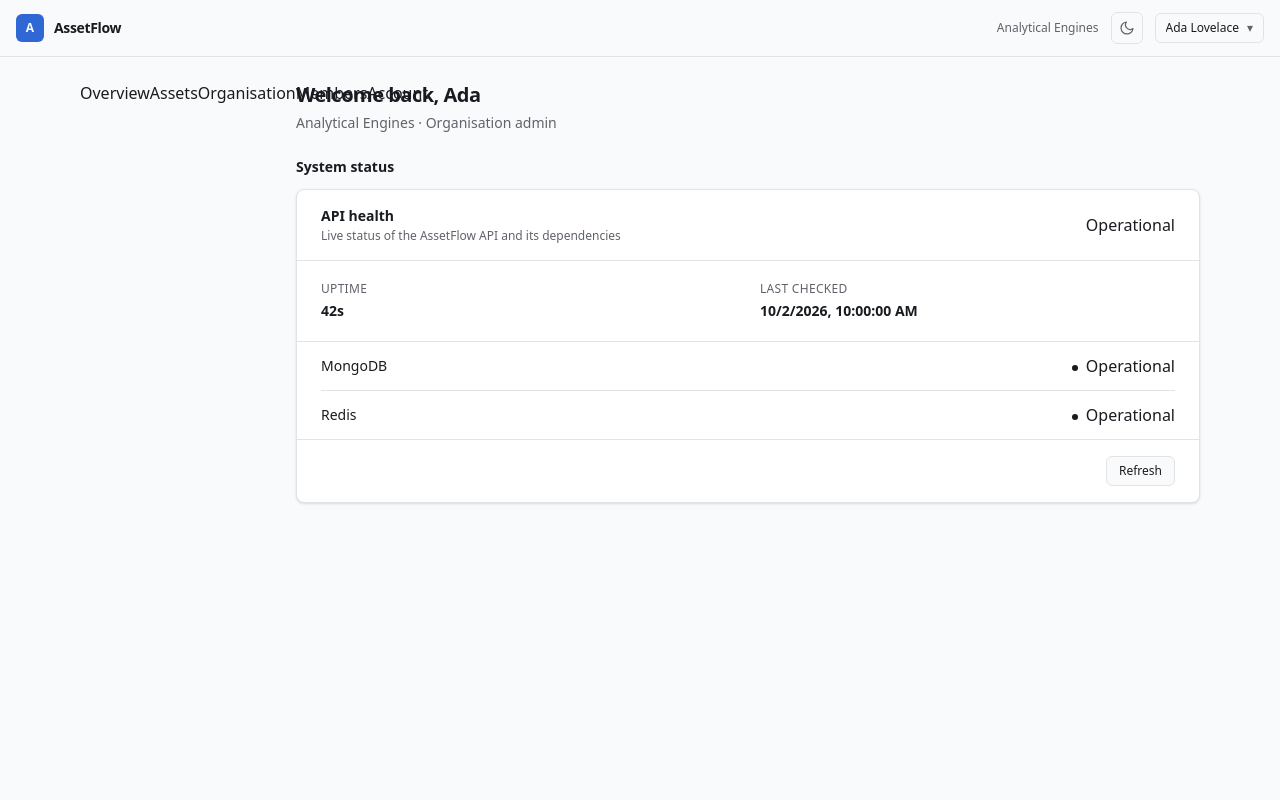
Scenario: App boot › keeps the theme toggle working in the shell
Expected: the heading "Welcome back, Ada" is shown, [296,81,480,108]
Click the button named "Switch to dark theme" at (1126,28), box [1110,12,1142,44]
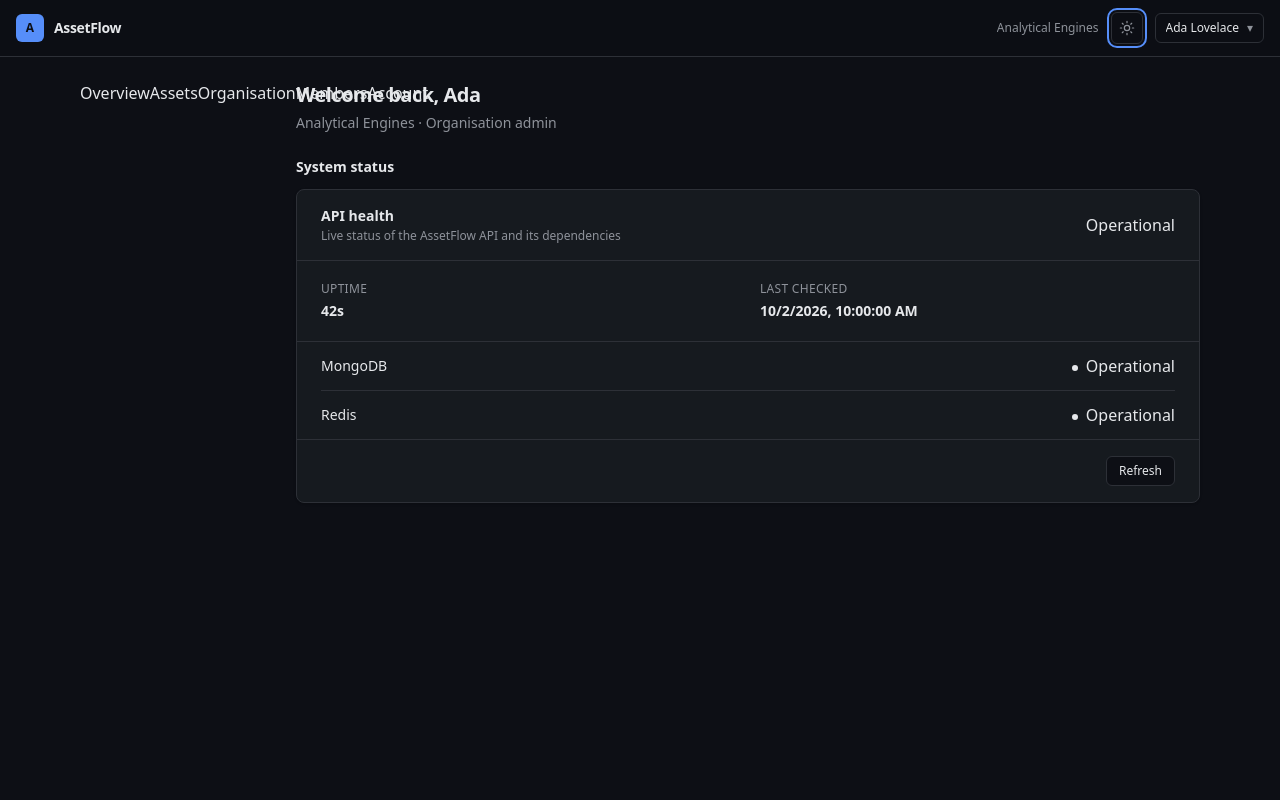
Now the button named "Switch to light theme" is shown, box [1110,12,1142,44]
